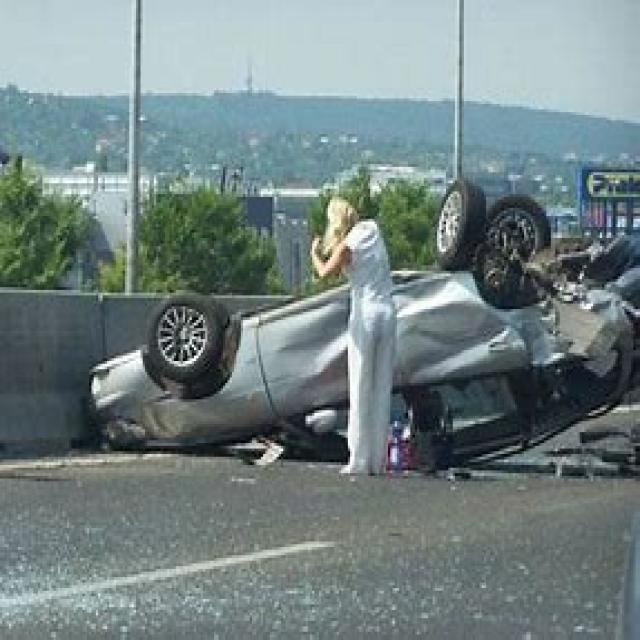Accident: (116, 119, 640, 500)
